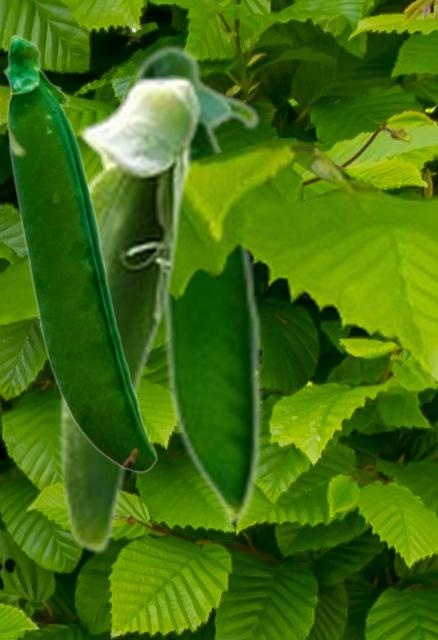pea: (58, 75, 202, 553), (3, 33, 156, 472), (132, 42, 262, 532)
